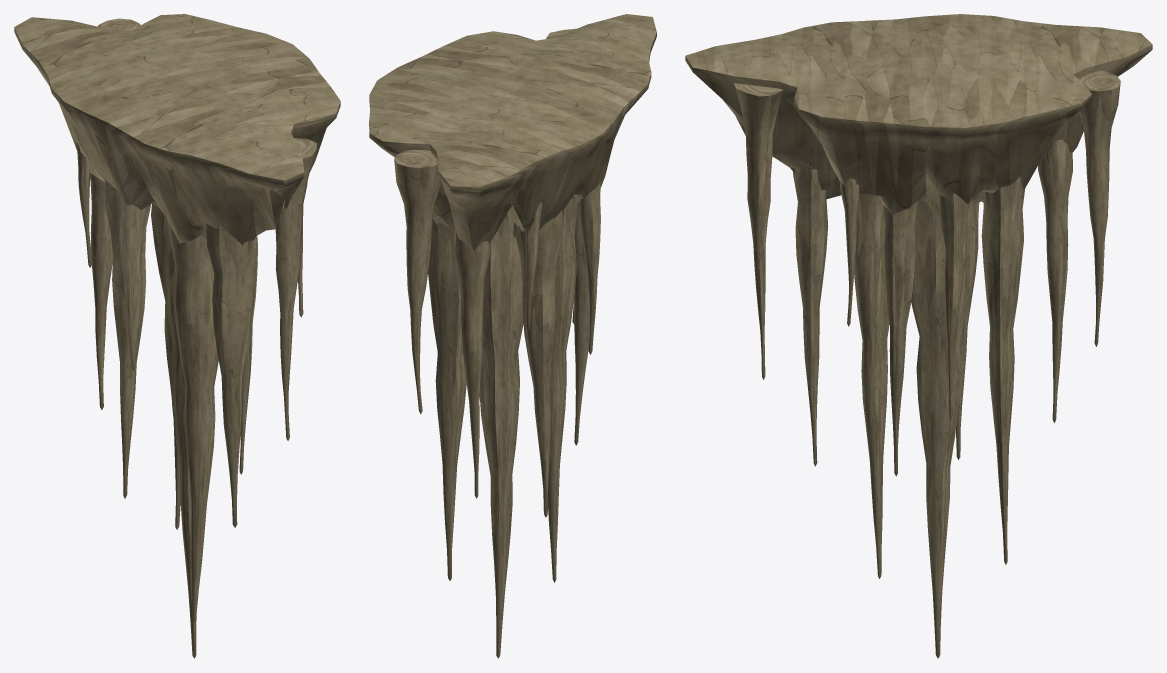
The picture shows the model from 3 angles, left to right: view 1: azimuth 30°, elevation 25°; view 2: azimuth 150°, elevation 25°; view 3: azimuth 270°, elevation 25°; orthographic projection. The views are drawn at different scales.
Parts seen in each view (by area): view 1: Mesh_DripstoneCluster; view 2: Mesh_DripstoneCluster; view 3: Mesh_DripstoneCluster.
Boxes of the visible parts, x1,y1,x2,y2 form: Mesh_DripstoneCluster: (14,14,340,658); Mesh_DripstoneCluster: (369,14,656,658); Mesh_DripstoneCluster: (685,14,1152,658).
Size of the model in its own units: 3 by 7.3 by 5.2.
1 material, 1 textured.
